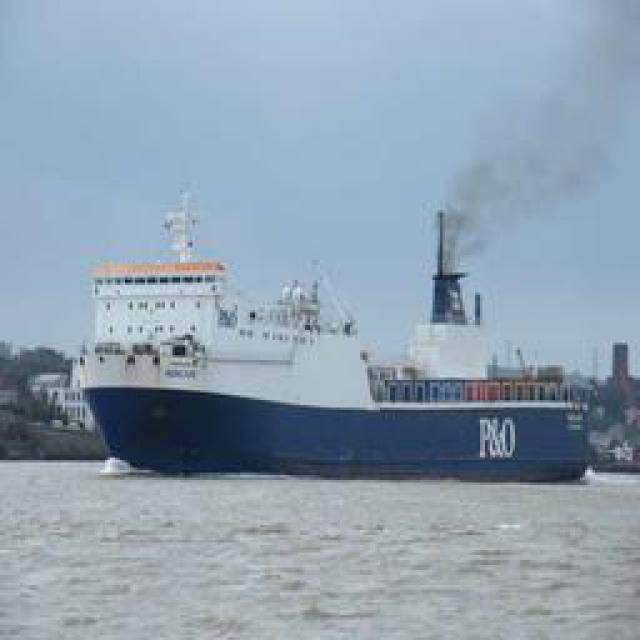Ship: (89, 154, 594, 474)
